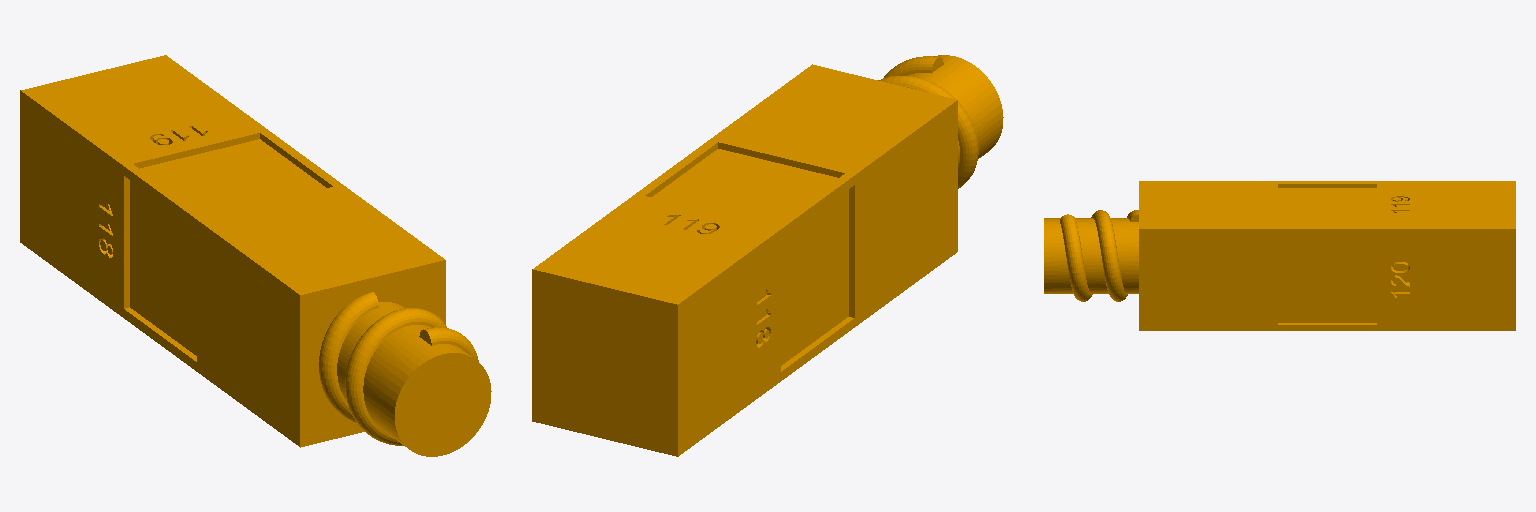
robot.urdf — desk_leg2:
<?xml version="1.0"?>
<robot name="desk_leg2">
    <link name="desk_leg2">
        <visual>
            <geometry>
                <mesh filename="../../mesh/desk/desk_leg2.obj" scale="1 1 1"/>
            </geometry>
        </visual>
        <collision>
            <geometry>
                <mesh filename="../../mesh/desk/desk_leg2.obj" scale="1 1 1"/>
            </geometry>
            <sdf resolution="512"/>
        </collision>
    </link>
</robot>

--- Render facts (derived) ---
3 views of the same robot in one strip: view 1: azimuth 30°, elevation 25°; view 2: azimuth 150°, elevation 25°; view 3: azimuth 270°, elevation 25° (orthographic).
Robot: desk_leg2 — 1 links, 0 joints (none); root link desk_leg2; default pose: every joint at zero.
Links seen in each view (by area): view 1: desk_leg2; view 2: desk_leg2; view 3: desk_leg2.
Link boxes in pixels (x1=…): desk_leg2: x1=20, y1=55, x2=491, y2=456; desk_leg2: x1=532, y1=55, x2=1003, y2=456; desk_leg2: x1=1044, y1=181, x2=1515, y2=330.
Size in the robot's own frame: 0.03 by 0.125 by 0.03 metres.
1 mesh visuals loaded from 1 distinct referenced files (1 OBJ).